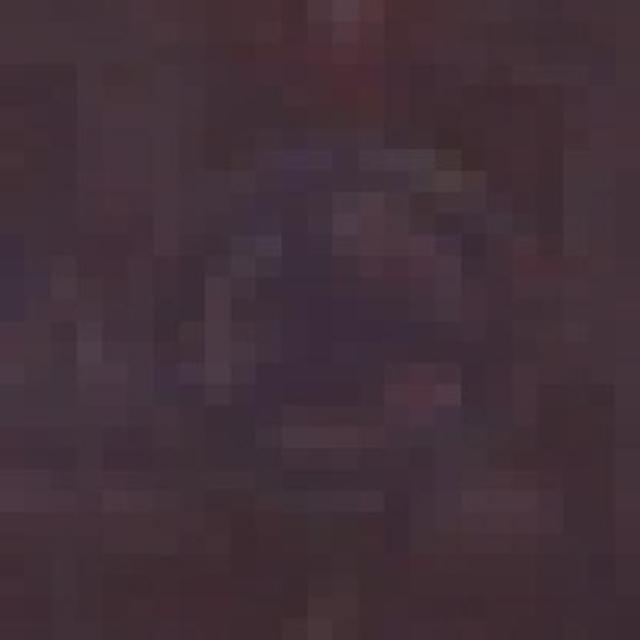Round-About: (77, 106, 589, 534)
